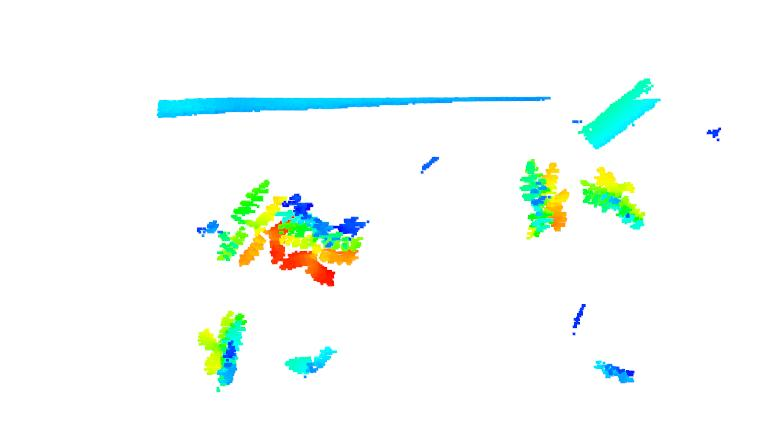chickpea: (196, 180, 292, 266), (281, 195, 367, 287), (581, 166, 649, 231), (521, 157, 571, 239), (196, 309, 245, 391), (282, 346, 338, 379)
